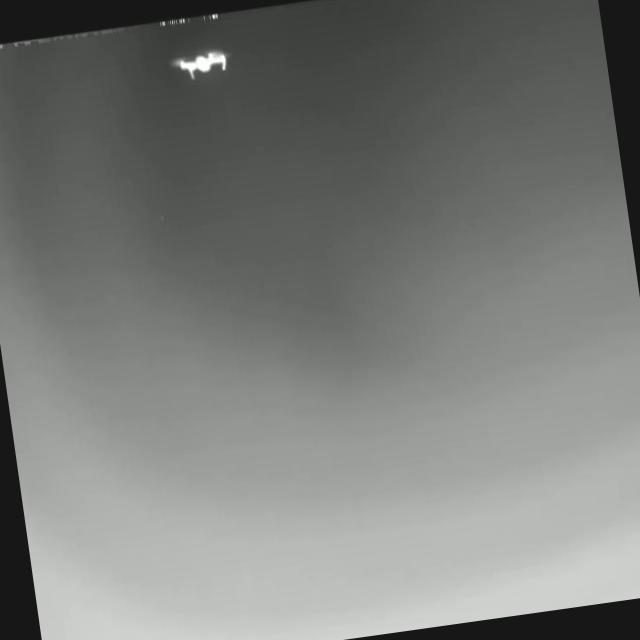DRONE: (166, 44, 233, 81)
